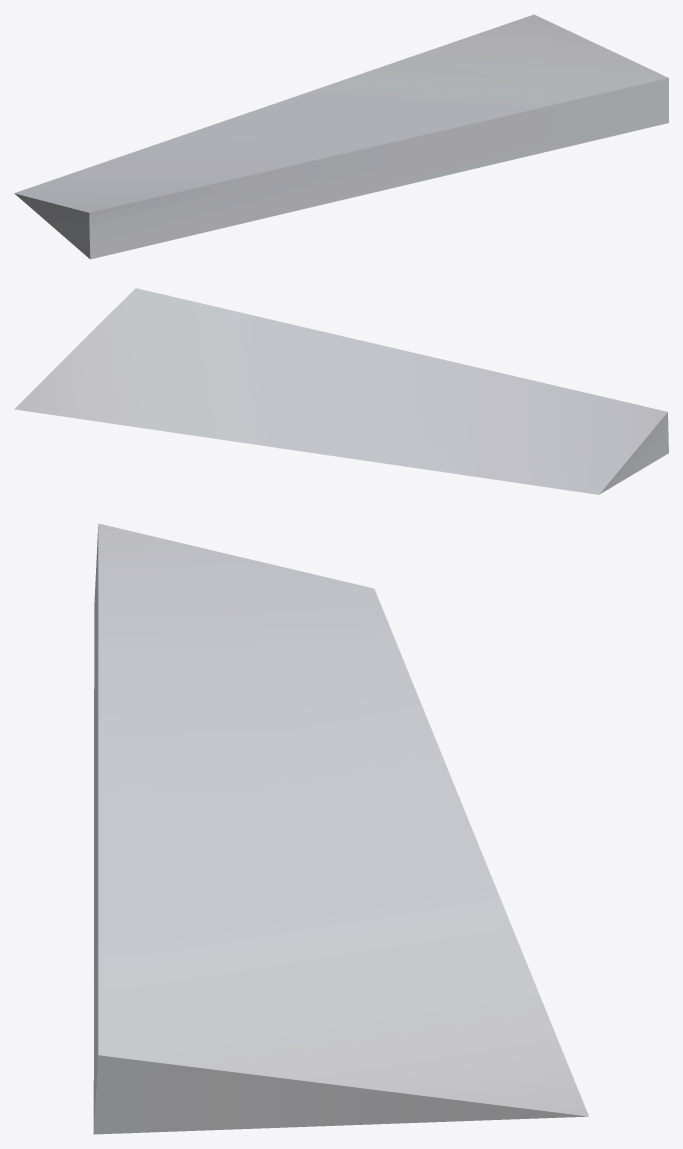
File: RightAirelone.glb
3 views of the same model, one above another, from view 1: azimuth 30°, elevation 25°; view 2: azimuth 150°, elevation 25°; view 3: azimuth 270°, elevation 25° (orthographic). The views are drawn at different scales.
Visible parts, largest first — view 1: awionetka.002; view 2: awionetka.002; view 3: awionetka.002.
Part boxes in pixels (box(x1,y1,x2,y2)): awionetka.002: box(14, 14, 668, 259); awionetka.002: box(14, 288, 668, 494); awionetka.002: box(93, 523, 588, 1134).
Size of the model in its own units: 12.79 by 1.06 by 5.15.
Materials: 1 (1 with a texture image).
